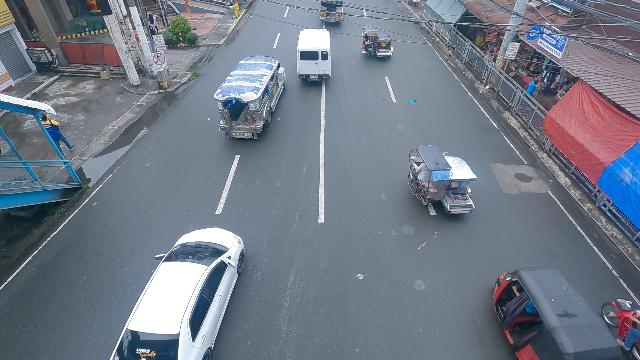car: (102, 227, 247, 360)
jeepney: (213, 53, 286, 140), (319, 1, 343, 23)
motorcycle: (605, 296, 640, 360)
van: (296, 27, 333, 82)
